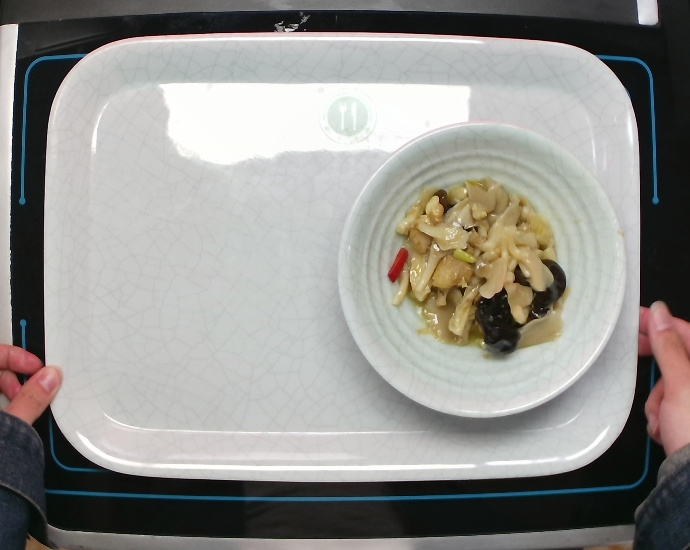JYsf-Xiao_Tang_Wan: (331, 115, 632, 421)
